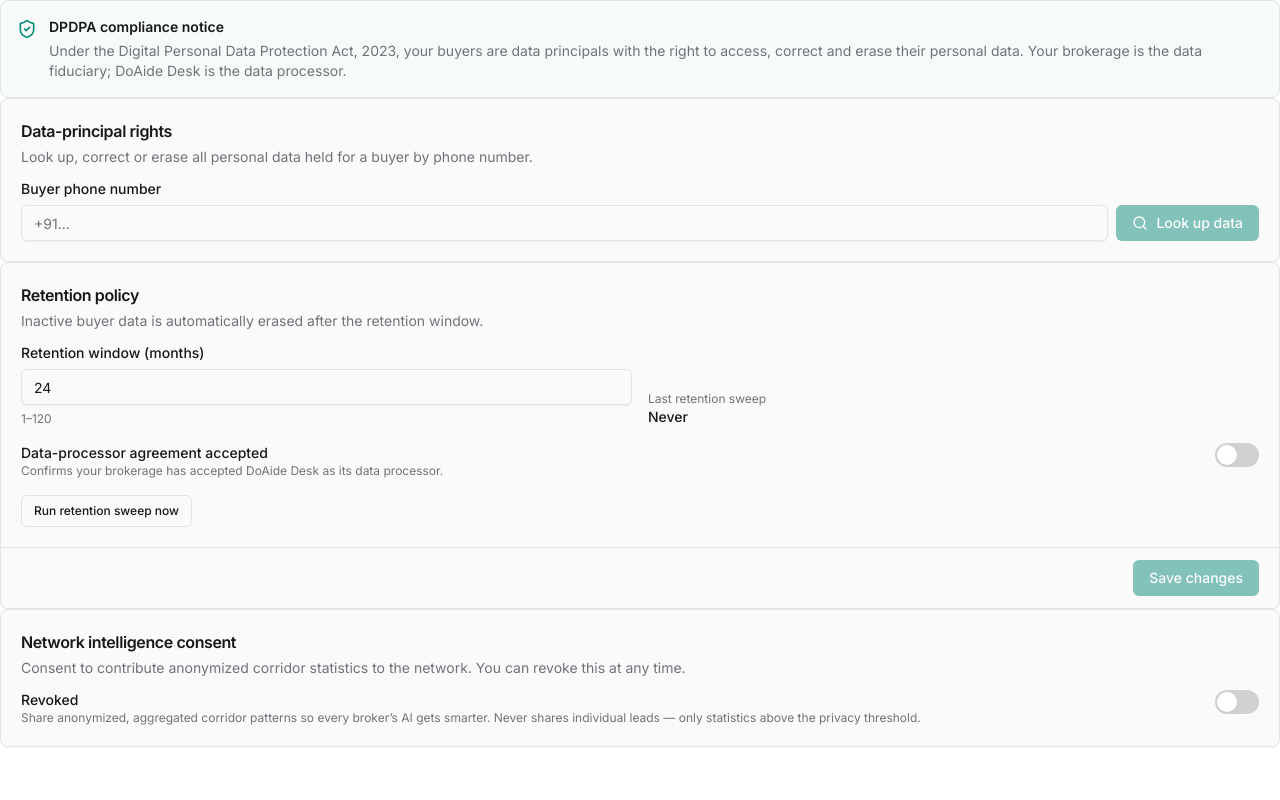
Test: PrivacyPage right of access › discloses the collected data fields
The image size is (1280, 800).
Type "+919800000001" into the field with placeholder "+91…" at (565, 223), box [21,205,1108,241]
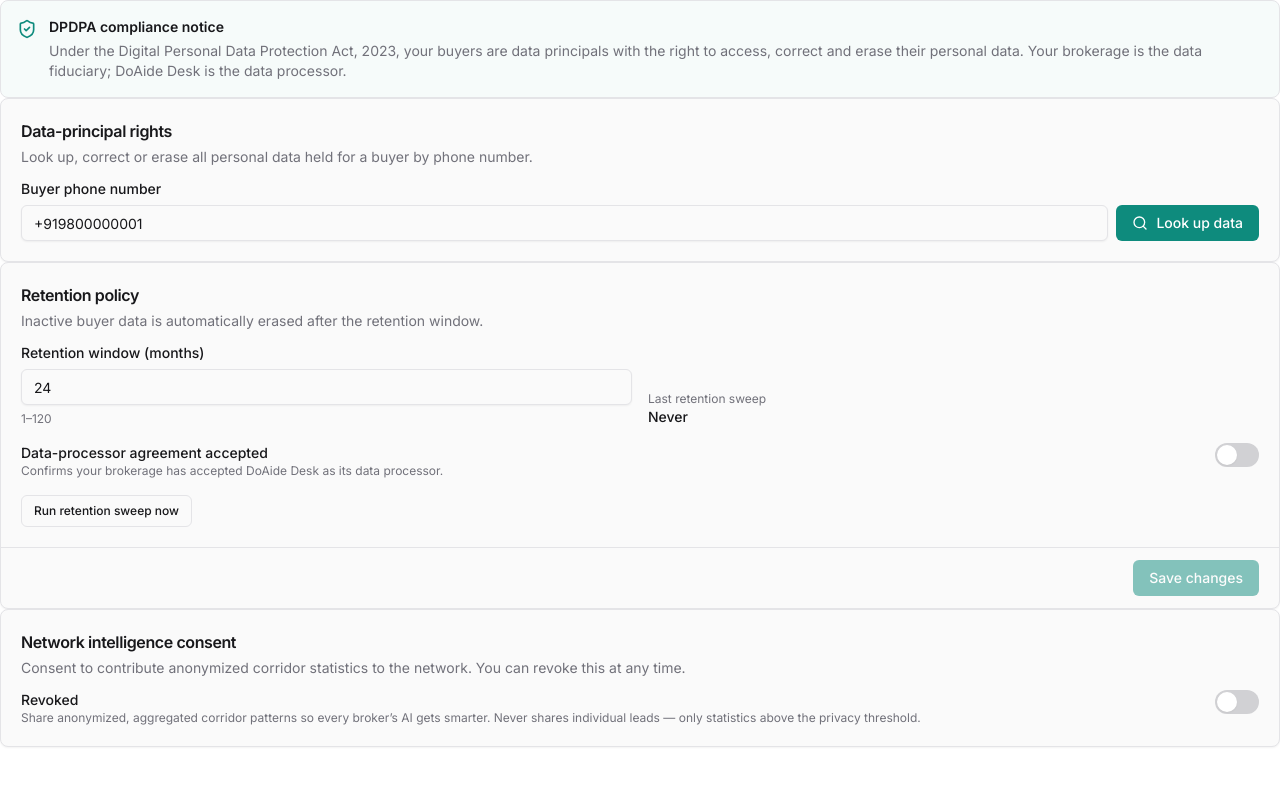
Click the button "Look up data" at (1188, 223), box [1116,205,1259,241]
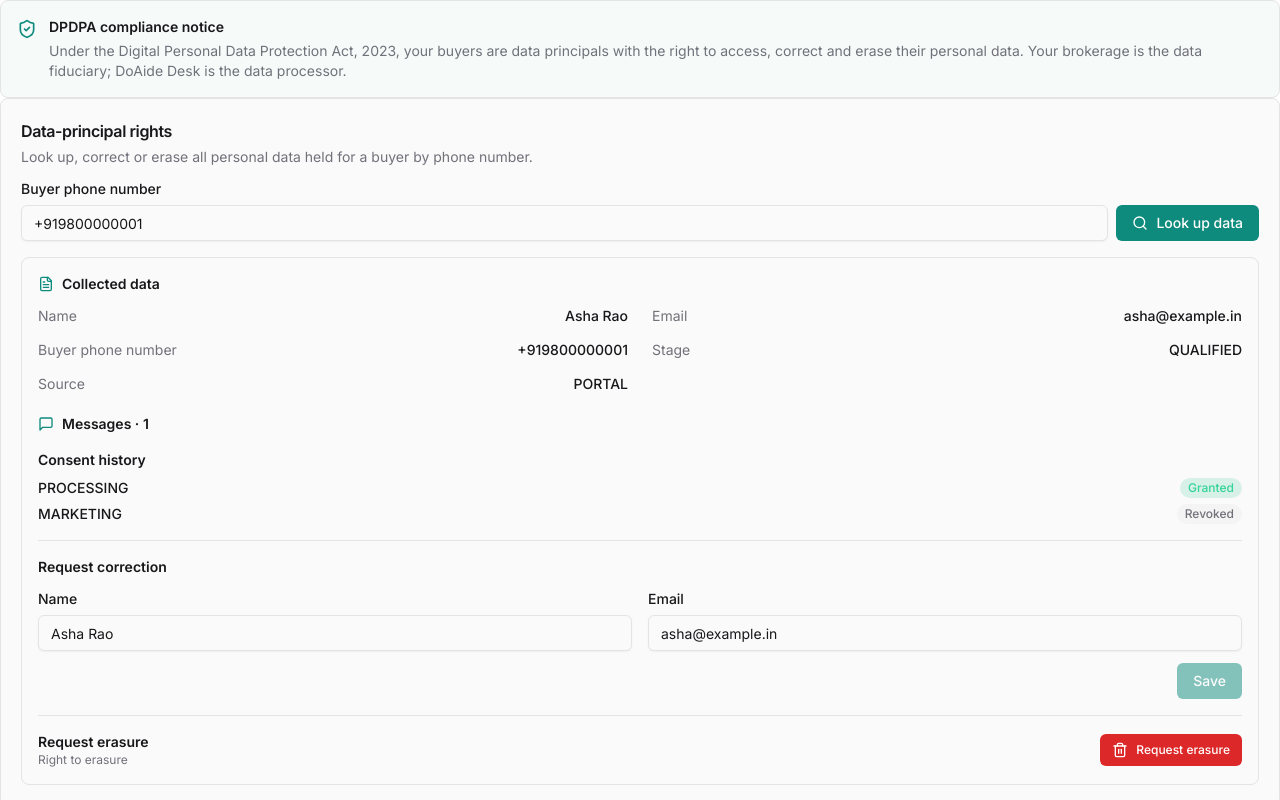
expect the text "Collected data" is shown: met, box [38,275,160,292]
expect the text "asha@example.in" is shown: met, box [1124,306,1242,326]
expect the text "QUALIFIED" is shown: met, box [1169,340,1242,360]
